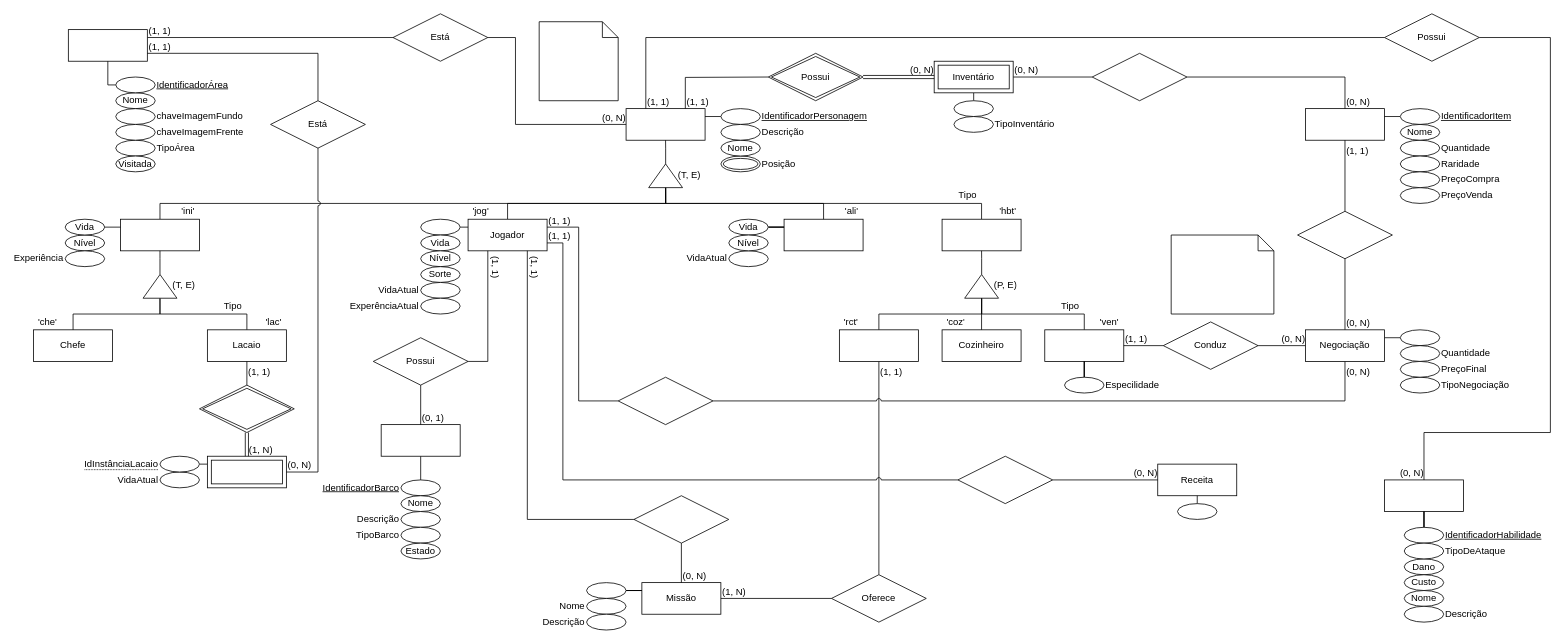
This 1565x644 diagram has some shape labels left out. The centre of each missing label's shape, as x and y in pixels:
"Aceita" goes at point (681, 519).
"Aliado" goes at point (823, 234).
"Barco" goes at point (420, 440).
"Conhece" goes at point (1005, 479).
"Contém" goes at point (1139, 77).
"Energia" goes at point (440, 226).
"Envolve" goes at point (1344, 235).
"Especialidade Vendedor de arma Vendedor de acessório Vendedor de comida" goes at point (1222, 274).
"Gera" goes at point (246, 408).
"Habilidade" goes at point (1423, 495).
"Habitante" goes at point (981, 234).
"IdentificadorInventário" goes at point (973, 108).
"IdentificadorMissão" goes at point (606, 590).
"IdentificadorNegociacao" goes at point (1419, 337).
"IdentificadorReceita" goes at point (1197, 511).
"Inimigo" goes at point (159, 234).
"InstânciaLacaio" goes at point (246, 471).
"Item" goes at point (1344, 124).
"Participa" goes at point (665, 400).
"Personagem" goes at point (665, 124).
"Posição Coordenada X Coordenada Y" goes at point (578, 61).
"Recrutador" goes at point (878, 345).
"Vendedor" goes at point (1084, 345).
"Área" goes at point (107, 45).
